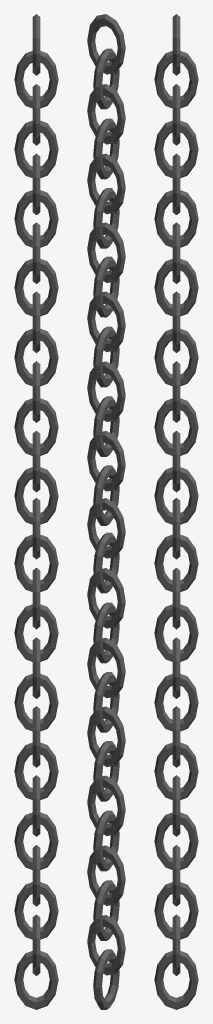
File: Chain.fbx
The picture shows the model from 3 angles, left to right: view 1: azimuth 90°, elevation 25°; view 2: azimuth 150°, elevation 25°; view 3: azimuth 270°, elevation 25°; orthographic projection.
Visible parts, largest first — view 1: Chain; view 2: Chain; view 3: Chain.
Part boxes in pixels (x1,y1,x2,y2): Chain: [14, 14, 58, 1009]; Chain: [87, 14, 125, 1009]; Chain: [154, 14, 198, 1009].
Bounding box in the file's own units: 50.11 × 1243 × 50.11.
